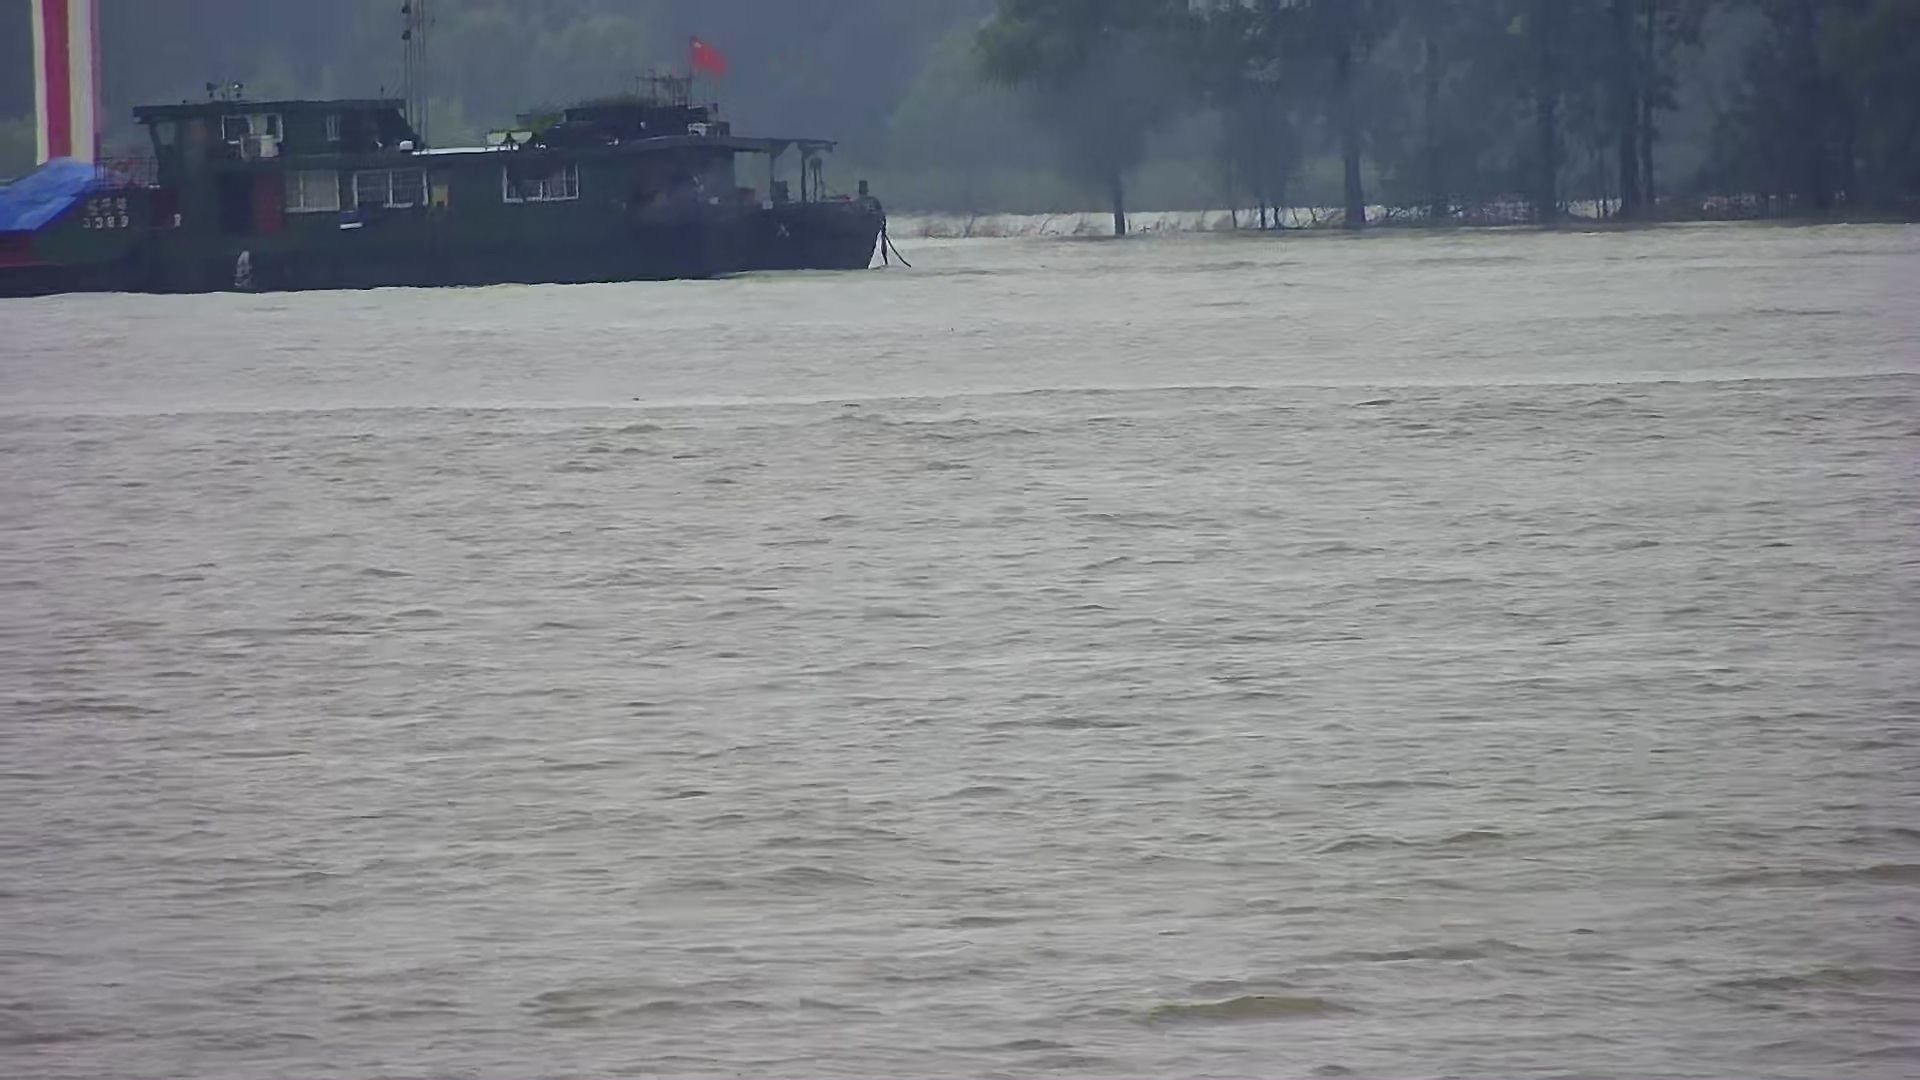ship: (1, 3, 890, 287)
tree: (968, 1, 1211, 237), (1724, 3, 1920, 225), (1271, 3, 1398, 231), (1585, 1, 1705, 220), (1193, 1, 1305, 233), (1385, 1, 1495, 229), (1491, 3, 1600, 231)
